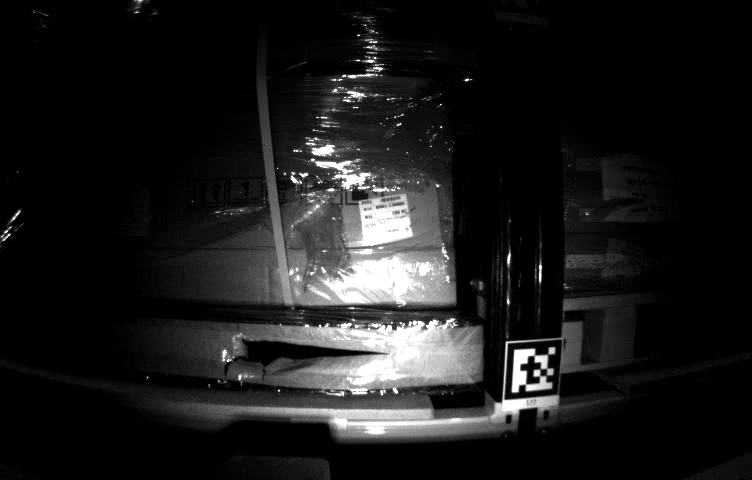True Barcode: (356, 194, 413, 242), (606, 238, 646, 282)
